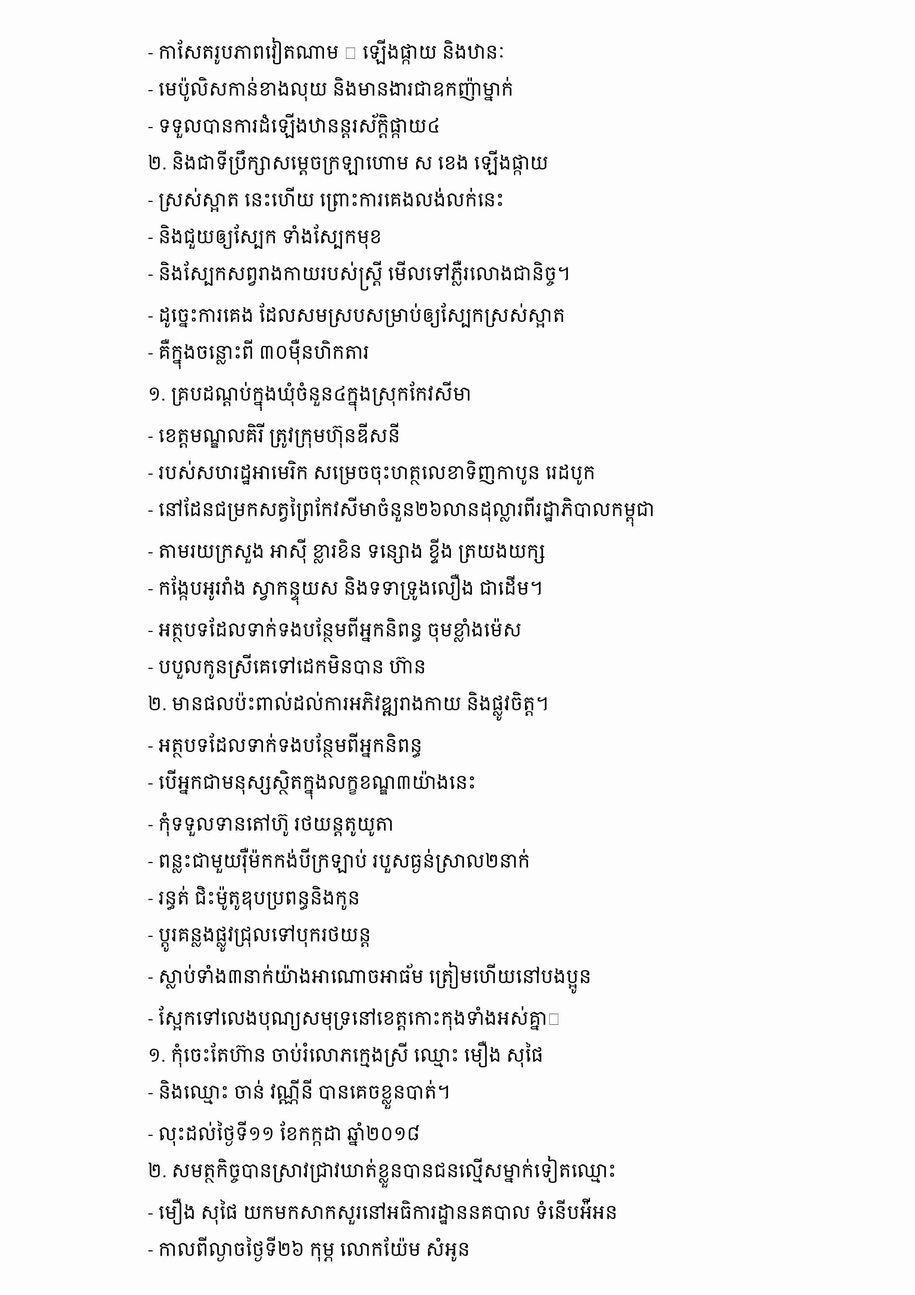text: (148, 497, 660, 527), (148, 1156, 621, 1188), (148, 962, 596, 994), (148, 260, 575, 291), (148, 1198, 622, 1225), (148, 574, 548, 605), (148, 691, 553, 721), (148, 460, 600, 485), (148, 1041, 549, 1068), (148, 303, 570, 328), (148, 538, 550, 564), (148, 1006, 566, 1031), (148, 769, 481, 800), (148, 37, 511, 65), (148, 150, 553, 175), (148, 381, 476, 411), (148, 848, 535, 873), (148, 617, 526, 642), (148, 77, 519, 102), (148, 1079, 455, 1109), (148, 187, 509, 212), (148, 1236, 475, 1262), (148, 113, 445, 138), (148, 732, 427, 758), (148, 654, 431, 679), (148, 339, 374, 370), (148, 1121, 425, 1146), (148, 423, 405, 448), (148, 812, 399, 837), (148, 925, 376, 952), (148, 224, 387, 249), (148, 886, 365, 910)
